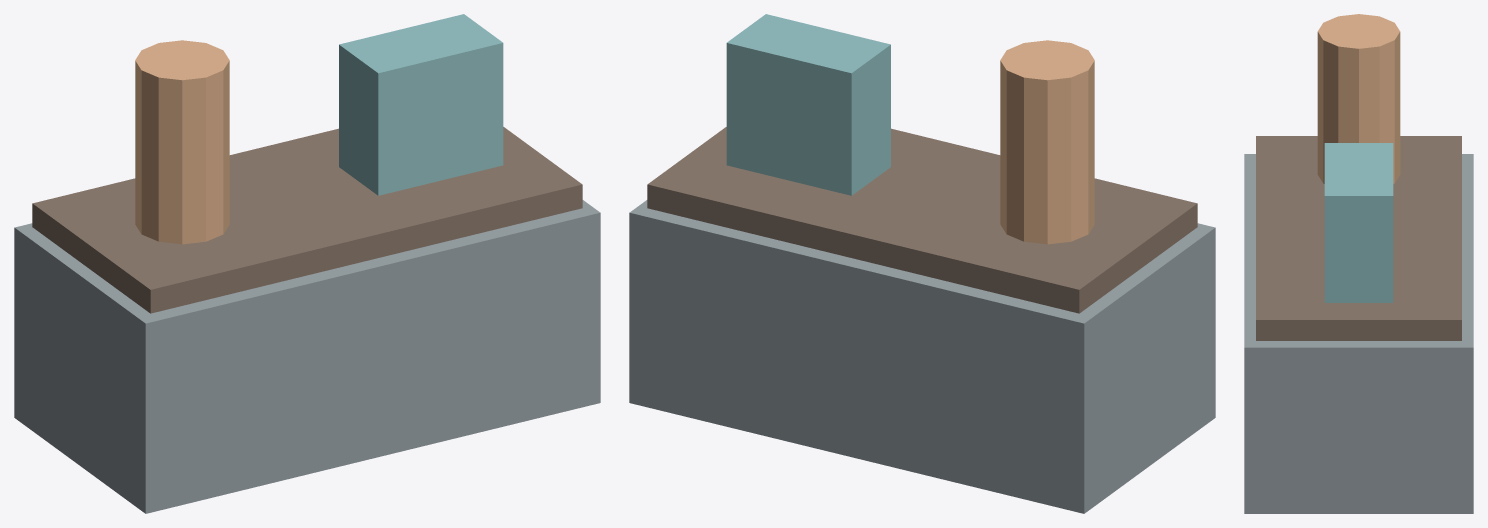
The model's file is inventing_bench.glb.
3 views of the same model, side by side, from view 1: azimuth 30°, elevation 25°; view 2: azimuth 150°, elevation 25°; view 3: azimuth 270°, elevation 25° (orthographic). The views are drawn at different scales.
Parts seen in each view (by area): view 1: part_00, part_01, part_03, part_02; view 2: part_00, part_01, part_03, part_02; view 3: part_00, part_01, part_03, part_02.
Part boxes in pixels (<box>): part_00: <box>14,200,600,513</box>; part_01: <box>32,127,582,313</box>; part_03: <box>339,14,503,195</box>; part_02: <box>135,40,229,244</box>; part_00: <box>629,200,1215,513</box>; part_01: <box>647,127,1197,313</box>; part_03: <box>726,14,890,195</box>; part_02: <box>1000,40,1094,244</box>; part_00: <box>1244,154,1473,513</box>; part_01: <box>1256,136,1461,340</box>; part_03: <box>1324,143,1393,302</box>; part_02: <box>1317,14,1400,183</box>.
Bounding box in the file's own units: 2 × 1.6 × 1.
